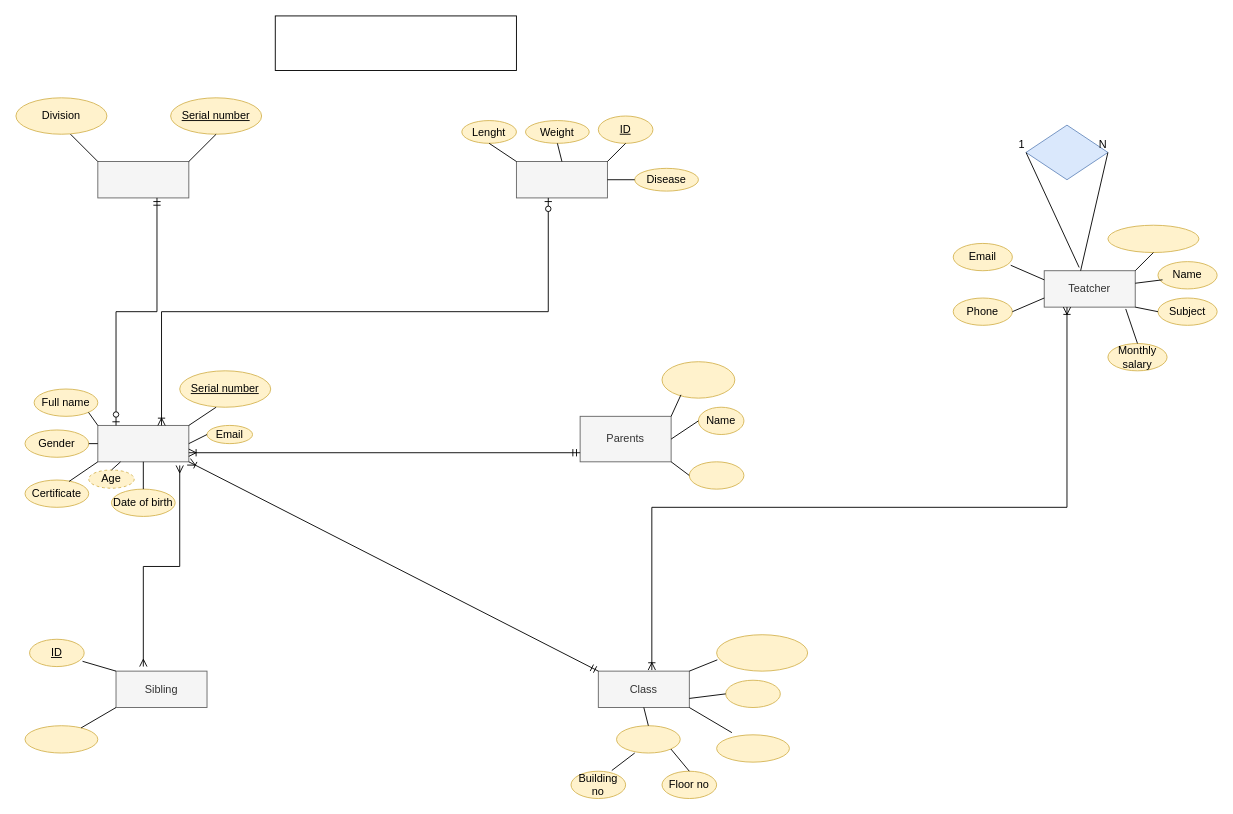
Some shapes in this 1233 by 814 pixel diagram are drawn without their labels. The shapes that lost their labels are listed below. From the top down, each one's centre as x and y in pixels, then its label:
[395,43]: International school data base
[1066,152]: Sub Head
[143,179]: Application
[561,179]: Medical report
[1153,238]: Teacher ID
[698,379]: Parent ID
[143,443]: Student
[716,475]: Relation ship
[762,652]: Name class
[752,693]: Capacity
[61,739]: Discount sibling
[648,739]: Location
[752,748]: Attend schedule
